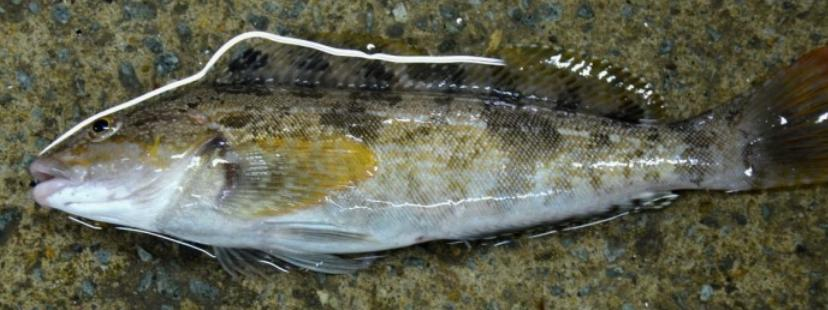fish: (30, 32, 827, 272)
